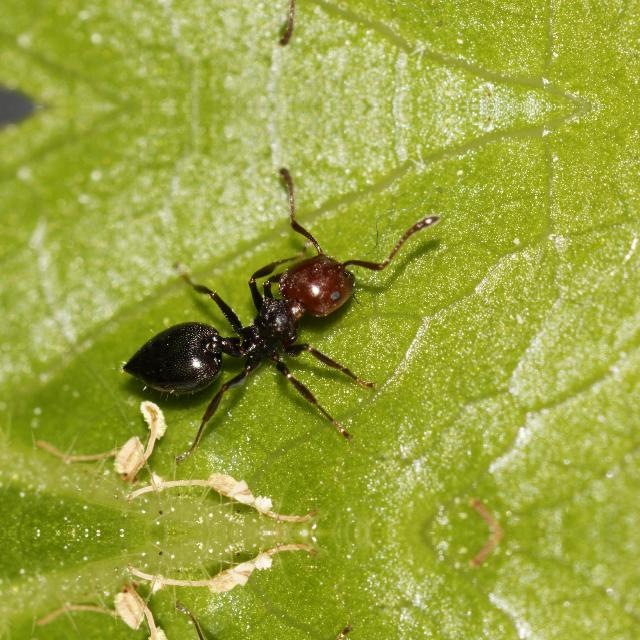Crematogaster: (111, 228, 369, 420)
